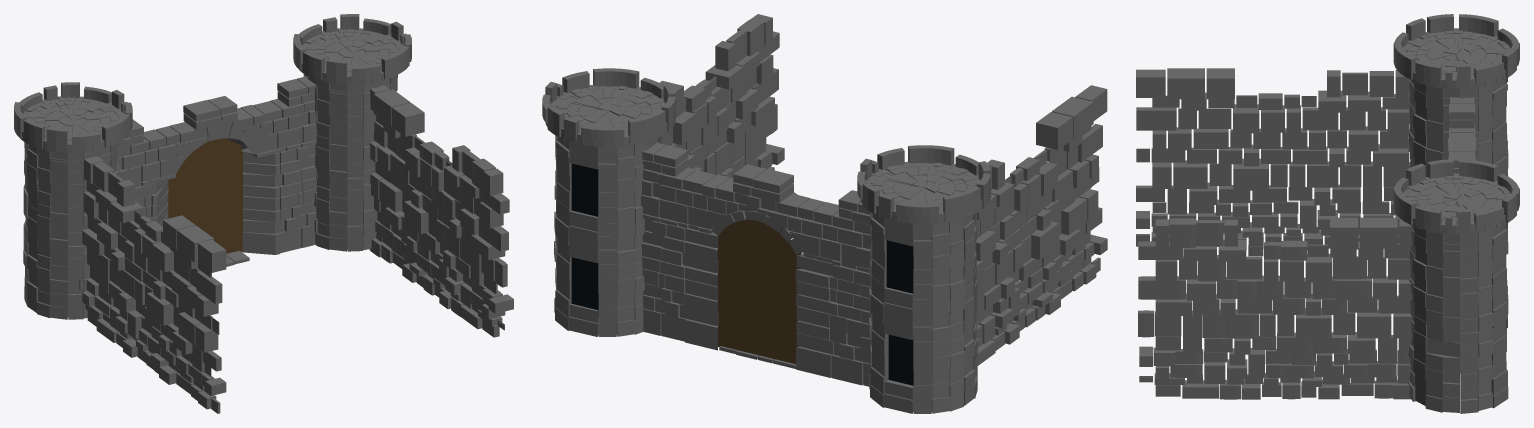
File: Castle.fbx
The picture shows the model from 3 angles, left to right: view 1: azimuth 30°, elevation 25°; view 2: azimuth 150°, elevation 25°; view 3: azimuth 270°, elevation 25°; orthographic projection. The views are drawn at different scales.
Visible parts, largest first — view 1: Opening, Wall.006, Wall.001, Pillar.001, Pillar.002; view 2: Opening, Pillar.001, Pillar.002, Wall.006, Wall.001; view 3: Wall.001, Wall.006, Pillar.002, Pillar.001, Opening.
Part boxes in pixels (left/top/right/bottom): Opening: left=117, top=76, right=316, bottom=270; Wall.006: left=79, top=156, right=226, bottom=413; Wall.001: left=369, top=85, right=513, bottom=337; Pillar.001: left=14, top=82, right=132, bottom=319; Pillar.002: left=293, top=14, right=411, bottom=251; Opening: left=641, top=142, right=871, bottom=386; Pillar.001: left=857, top=145, right=990, bottom=413; Pillar.002: left=542, top=68, right=675, bottom=336; Wall.006: left=975, top=85, right=1107, bottom=365; Wall.001: left=659, top=14, right=784, bottom=178; Wall.001: left=1138, top=217, right=1412, bottom=399; Wall.006: left=1136, top=68, right=1410, bottom=250; Pillar.002: left=1393, top=159, right=1519, bottom=413; Pillar.001: left=1393, top=14, right=1519, bottom=254; Opening: left=1448, top=97, right=1476, bottom=346.
Size of the model in its own units: 2944 by 1772 by 3604.
